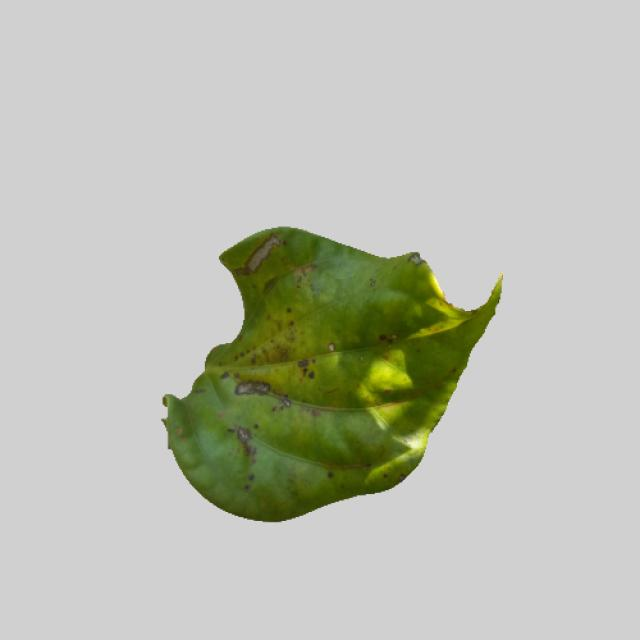yellow-mottle-virus: (147, 224, 524, 529)
